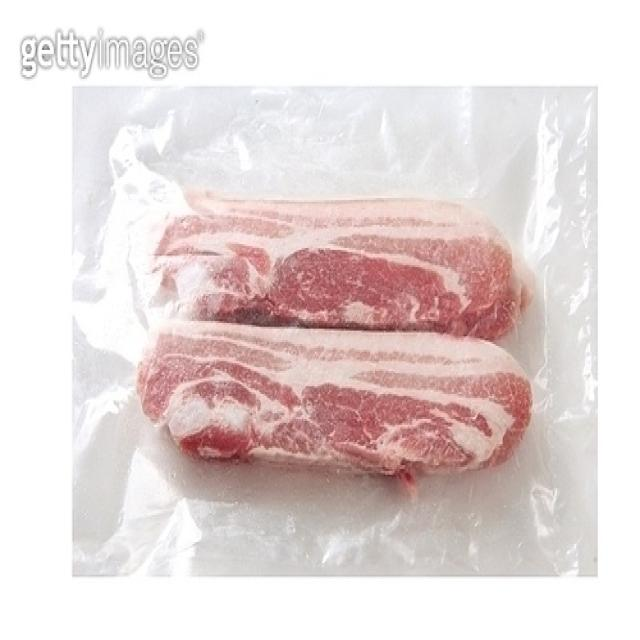pork: (124, 155, 542, 519)
